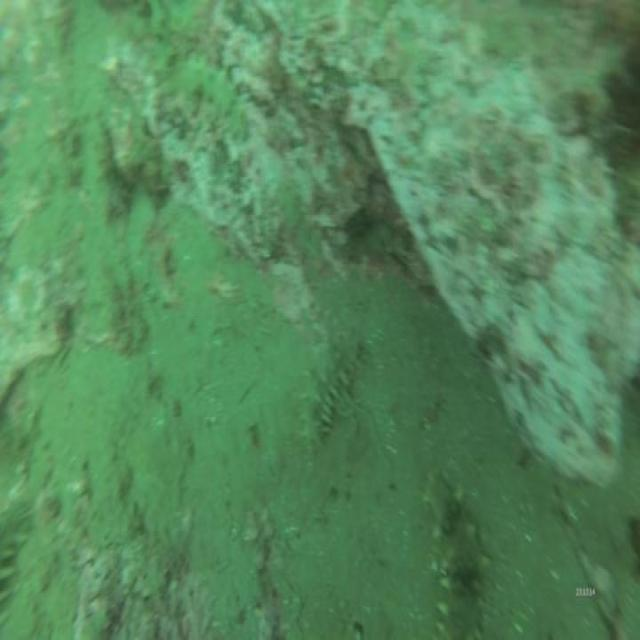holothurian: (423, 468, 487, 640), (300, 321, 362, 455), (180, 49, 246, 149), (280, 182, 322, 284)
